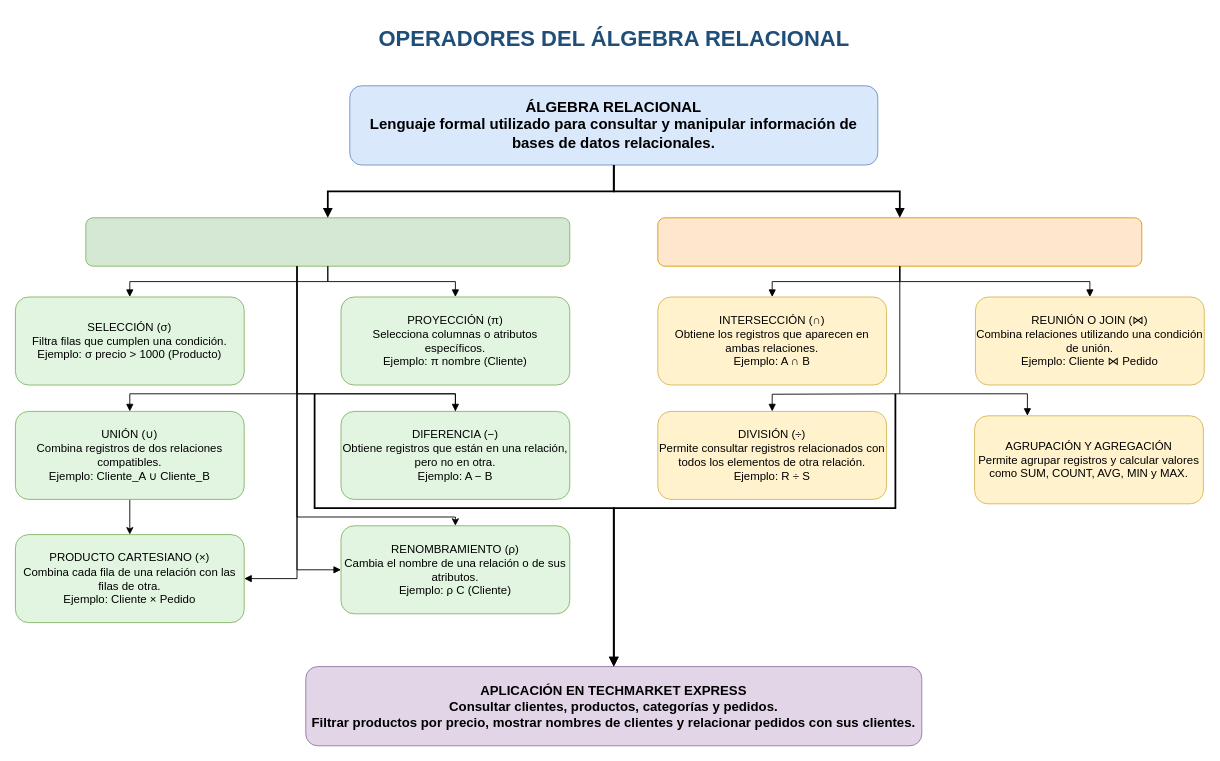
This 1220x761 diagram has some shape labels left out. Here are the shapes that lost their labels. From the top down, the centre of each, then its label:
At pixel 327 241: "OPERADORES FUNDAMENTALES".
At pixel 899 241: "OPERADORES EXTENDIDOS".
